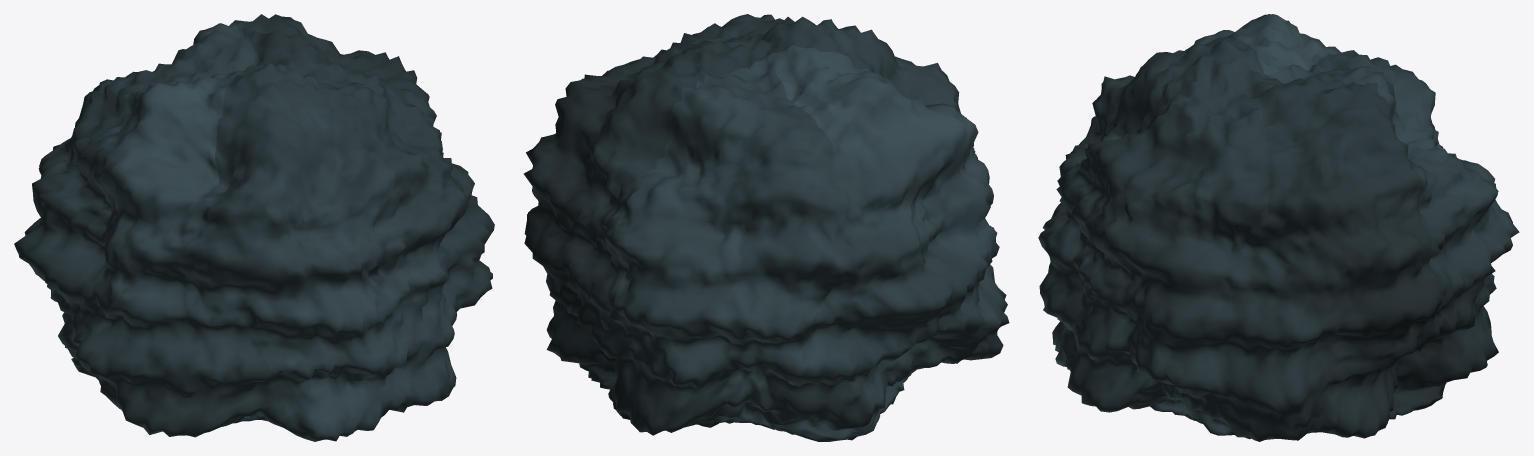
The model's file is SM_Basalt_00.fbx.
3 renders of one model, left to right at view 1: azimuth 30°, elevation 25°; view 2: azimuth 150°, elevation 25°; view 3: azimuth 270°, elevation 25°, orthographic. The views are drawn at different scales.
Parts seen in each view (by area): view 1: SM_Basalt_00.001; view 2: SM_Basalt_00.001; view 3: SM_Basalt_00.001.
Part boxes in pixels (x1=…): SM_Basalt_00.001: x1=14, y1=14, x2=494, y2=441; SM_Basalt_00.001: x1=523, y1=14, x2=1009, y2=441; SM_Basalt_00.001: x1=1038, y1=14, x2=1519, y2=441.
Size of the model in its own units: 226 by 223 by 176.
